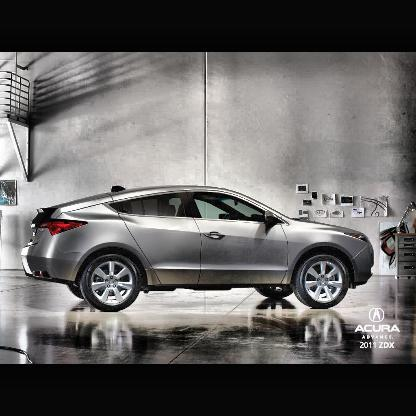Acura ZDX Hatchback 2012: (21, 184, 376, 315)
